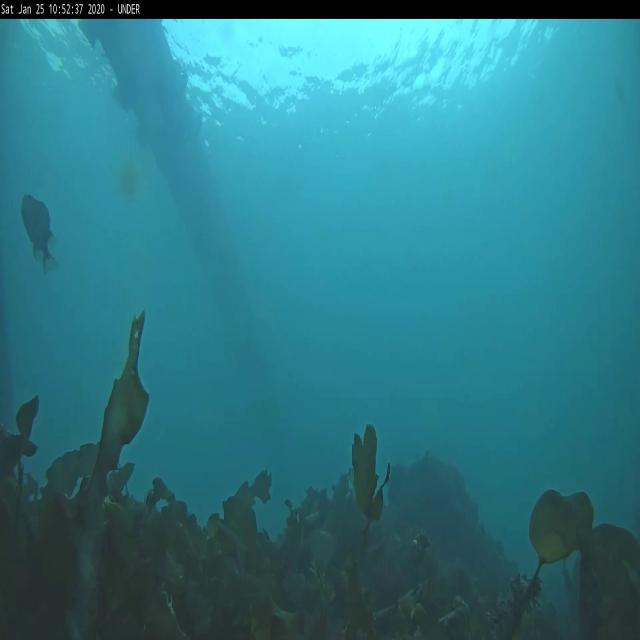fish: (20, 194, 57, 274)
